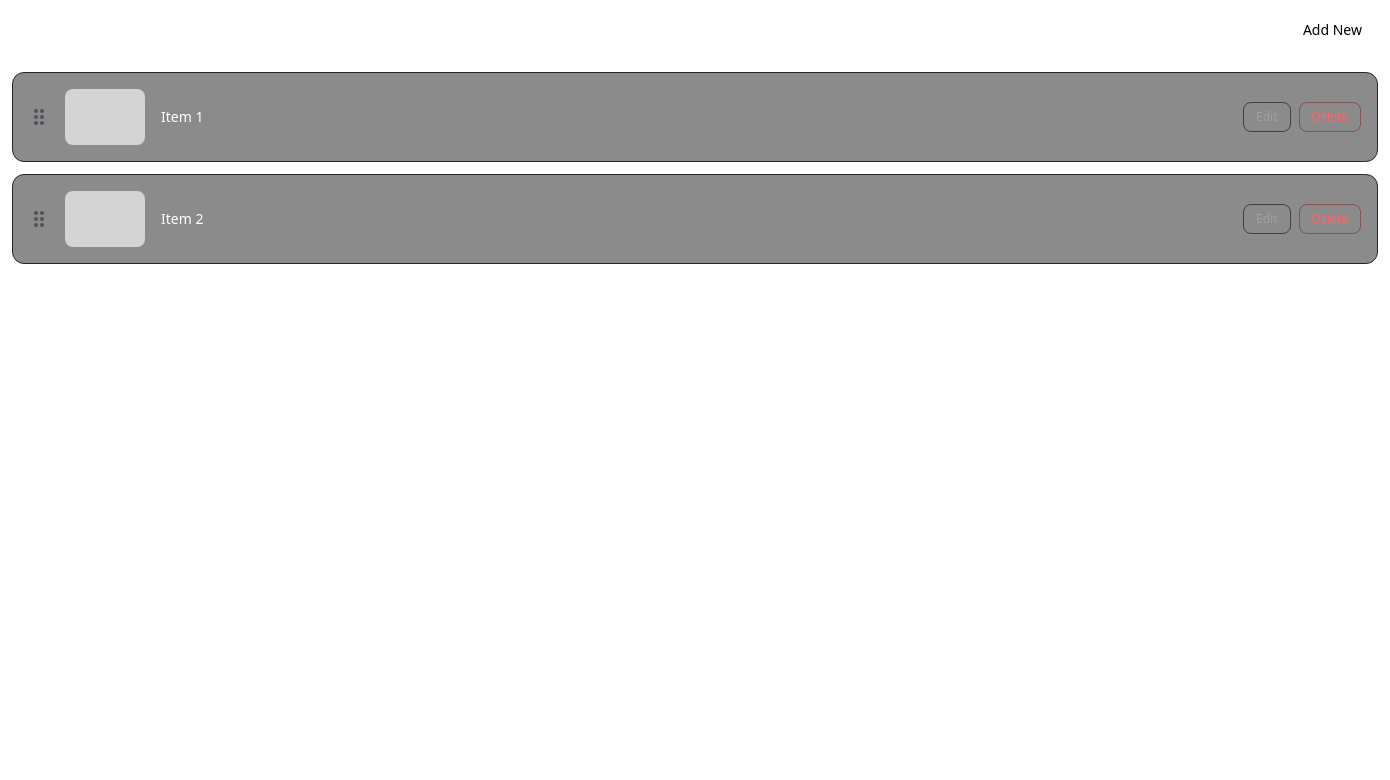
Test: ContentManager › shows edit form when Edit button is clicked
The width and height of the screenshot is (1390, 780).
Step 1. Click the button "Edit" in the row of "Item 1" → (1267, 117), box [1243, 102, 1290, 132]
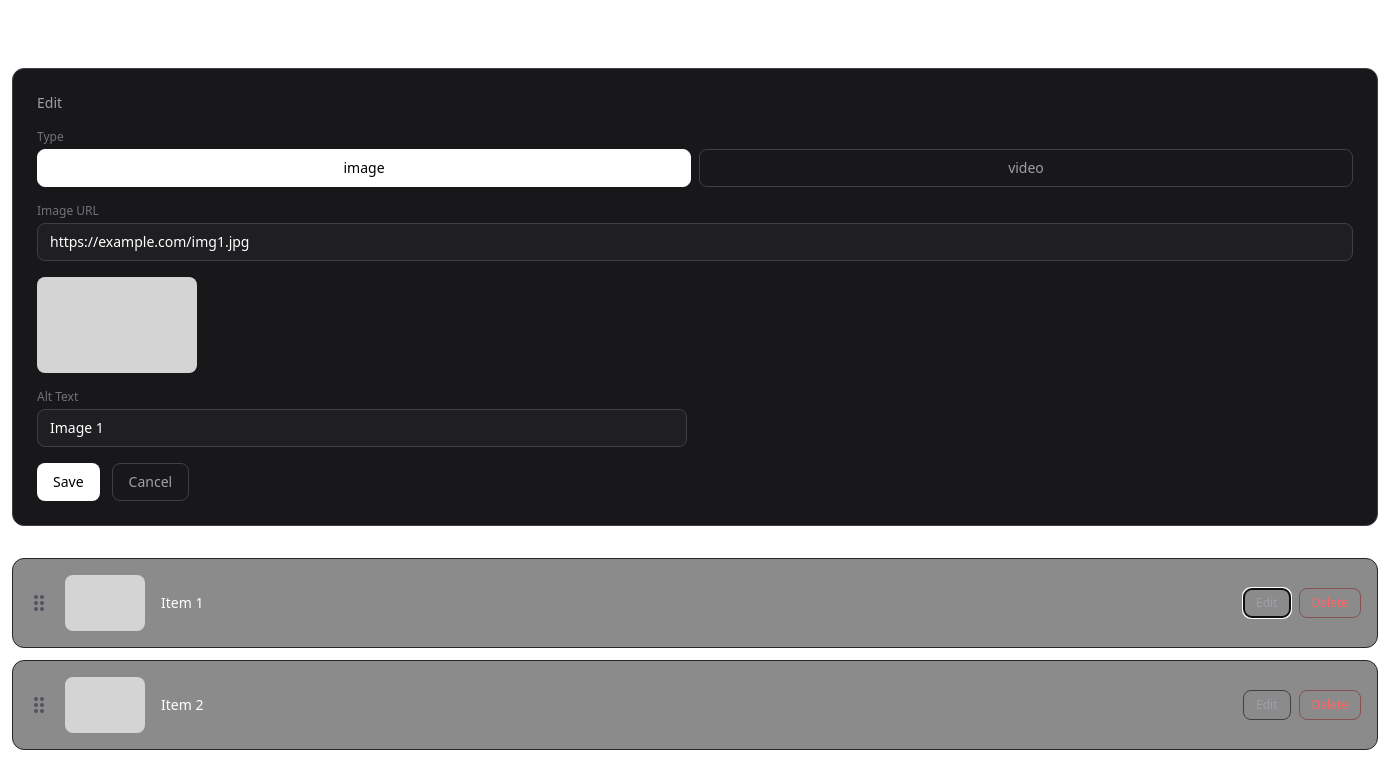
Now the heading "Edit" is shown, box [37, 93, 62, 112]
